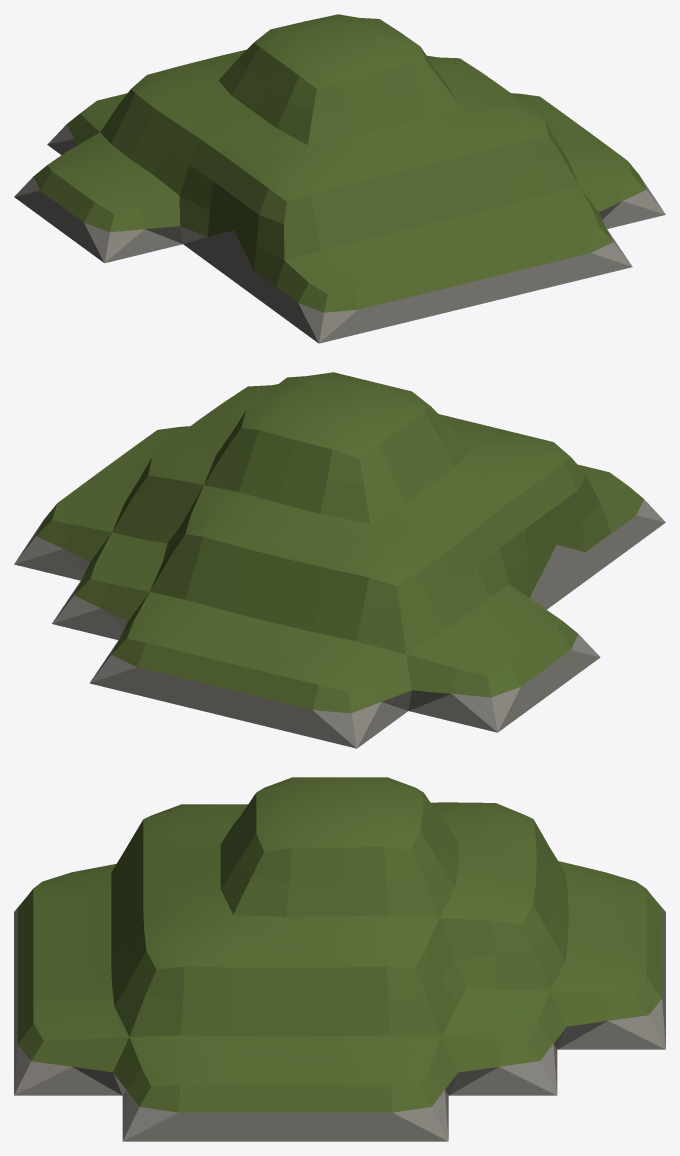
Rendered from Island 1.FBX.
3 renders of one model, top to bottom at view 1: azimuth 30°, elevation 25°; view 2: azimuth 150°, elevation 25°; view 3: azimuth 270°, elevation 25°, orthographic. The views are drawn at different scales.
Parts seen in each view (by area): view 1: Plane001; view 2: Plane001; view 3: Plane001.
Part boxes in pixels (box(x1,y1,x2,y2)): Plane001: box(14, 14, 665, 343); Plane001: box(14, 372, 665, 748); Plane001: box(14, 777, 665, 1141).
Bounding box in the file's own units: 60 × 20.32 × 60.
